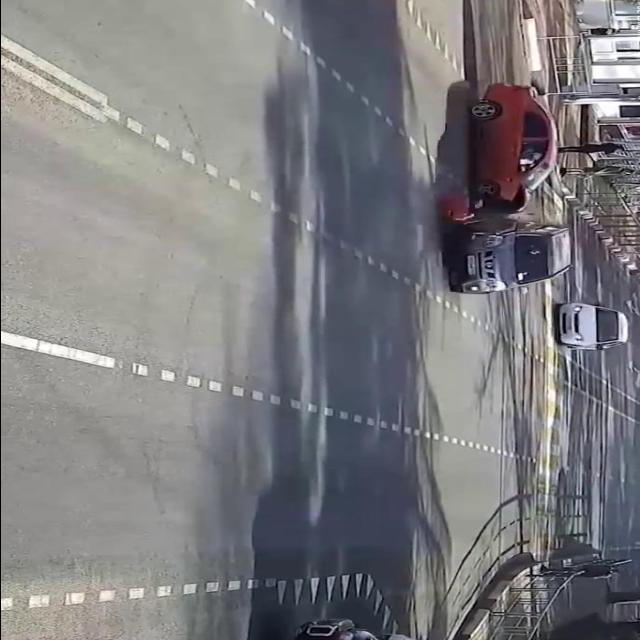accident: (419, 78, 584, 302)
